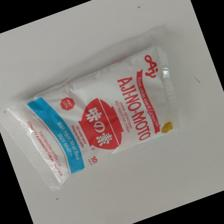Ajinomoto: (1, 45, 181, 186)
